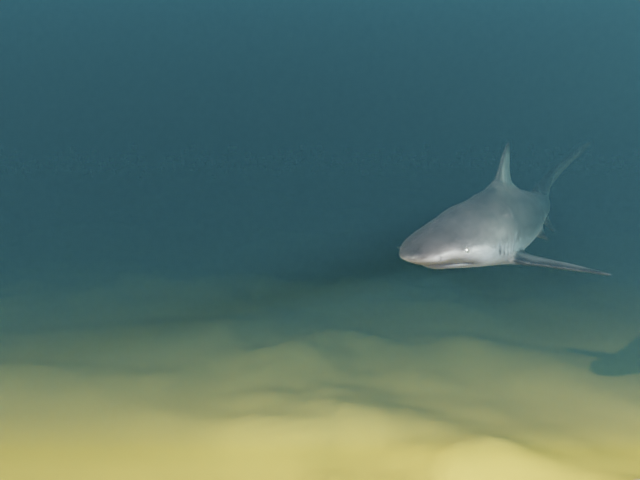Carribean Shark.001: (396, 142, 611, 275)
